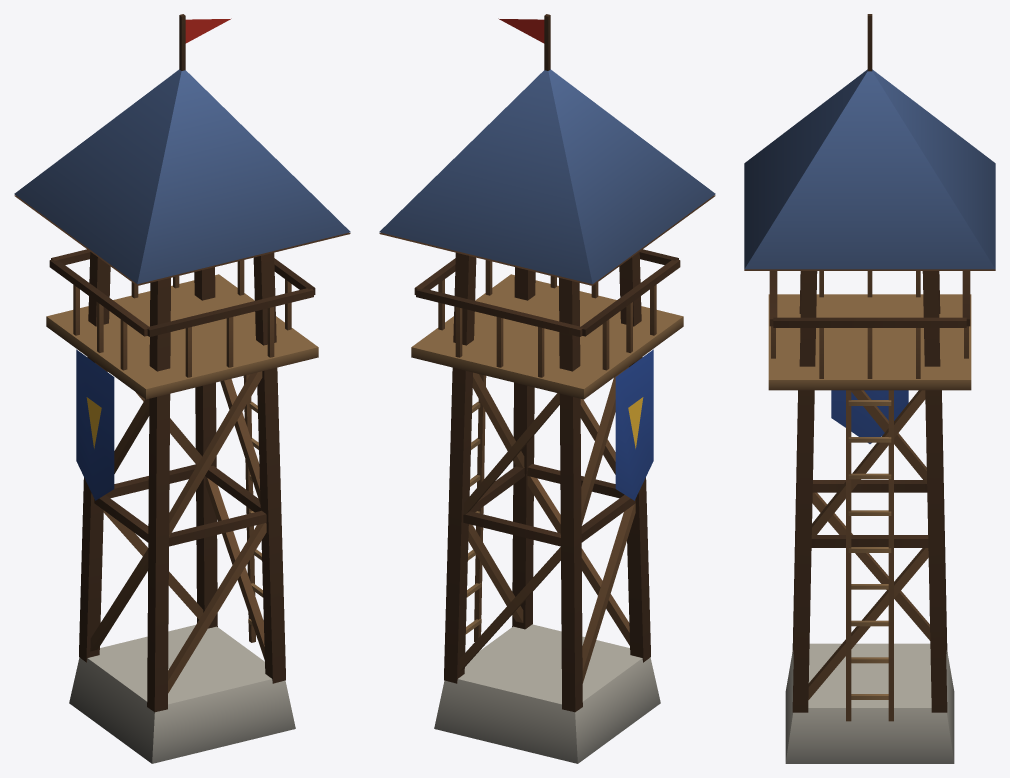
The model's file is b_tower.glb.
The picture shows the model from 3 angles, left to right: view 1: azimuth 30°, elevation 25°; view 2: azimuth 150°, elevation 25°; view 3: azimuth 270°, elevation 25°; orthographic projection.
Parts seen in each view (by area): view 1: wood, roof, stone, cloth; view 2: wood, roof, stone, cloth; view 3: wood, roof, stone, cloth.
Boxes of the visible parts, x1,y1,x2,y2 form: wood: [14, 14, 350, 712]; roof: [14, 69, 350, 284]; stone: [69, 625, 295, 763]; cloth: [76, 18, 231, 500]; wood: [379, 14, 715, 712]; roof: [379, 69, 715, 284]; stone: [434, 624, 660, 763]; cloth: [498, 18, 653, 500]; wood: [744, 14, 995, 721]; roof: [744, 69, 995, 269]; stone: [785, 643, 954, 763]; cloth: [831, 390, 908, 443].
Bounding box in the file's own units: 2.6 × 8.15 × 2.6.
